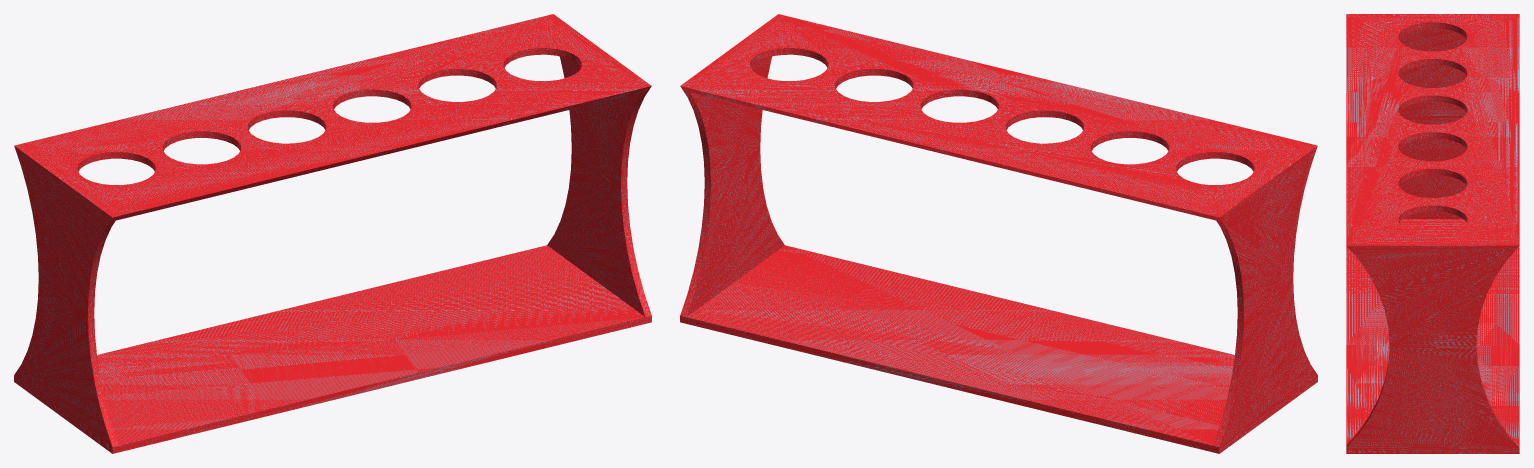
The model's file is tubeHolder.fbx.
3 renders of one model, left to right at view 1: azimuth 30°, elevation 25°; view 2: azimuth 150°, elevation 25°; view 3: azimuth 270°, elevation 25°, orthographic. The views are drawn at different scales.
Visible parts, largest first — view 1: Model; view 2: Model; view 3: Model.
Part boxes in pixels (<box>): Model: <box>14,14,651,453</box>; Model: <box>680,14,1317,453</box>; Model: <box>1346,14,1519,453</box>.
Size of the model in its own units: 0.2532 by 0.106 by 0.08.
